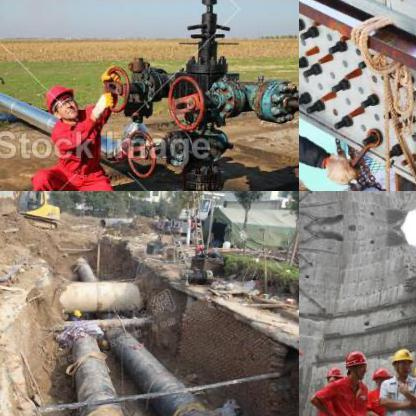Helmet: (40, 80, 82, 124), (342, 346, 367, 380), (386, 344, 412, 375), (324, 364, 344, 390), (372, 364, 392, 390)
